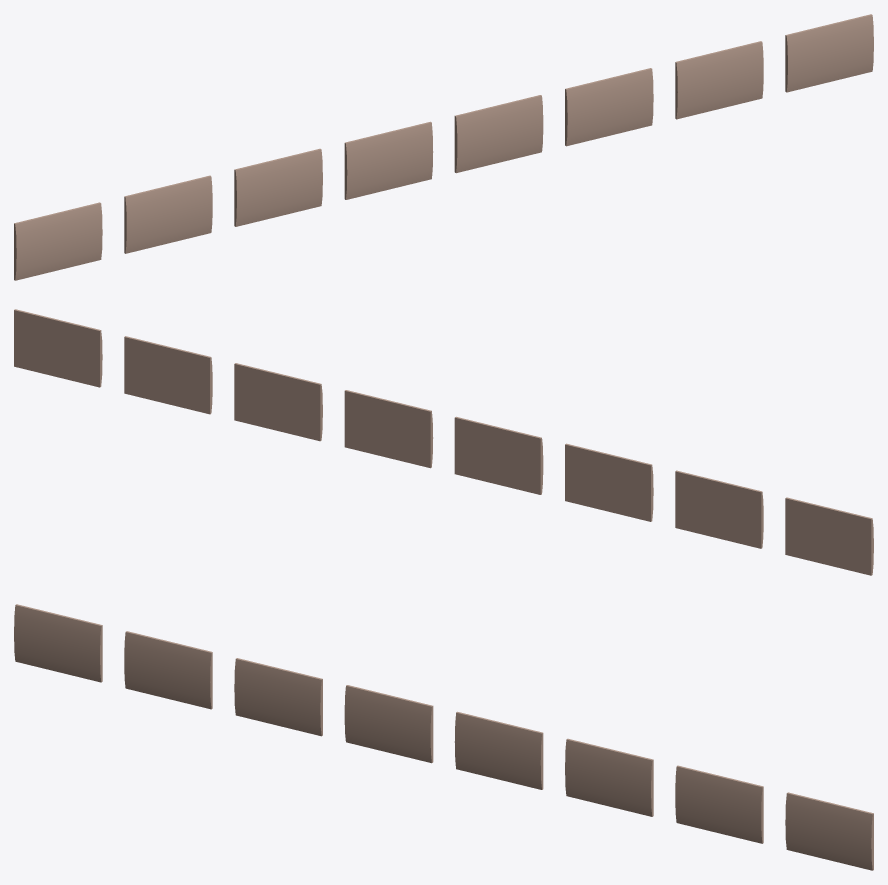
Rendered from SM_SignDoor_01.fbx.
3 renders of one model, top to bottom at view 1: azimuth 30°, elevation 25°; view 2: azimuth 150°, elevation 25°; view 3: azimuth 330°, elevation 25°, orthographic.
Parts seen in each view (by area): view 1: SM_SignDoor_01e, SM_SignDoor_01d, SM_SignDoor_01h, SM_SignDoor_01c, SM_SignDoor_01b, SM_SignDoor_01g, SM_SignDoor_01a, SM_SignDoor_01f; view 2: SM_SignDoor_01d, SM_SignDoor_01e, SM_SignDoor_01a, SM_SignDoor_01f, SM_SignDoor_01g, SM_SignDoor_01b, SM_SignDoor_01h, SM_SignDoor_01c; view 3: SM_SignDoor_01d, SM_SignDoor_01e, SM_SignDoor_01a, SM_SignDoor_01f, SM_SignDoor_01g, SM_SignDoor_01b, SM_SignDoor_01h, SM_SignDoor_01c.
Boxes of the visible parts, x1,y1,x2,y2 form: SM_SignDoor_01e: (454,95,543,173); SM_SignDoor_01d: (344,121,433,199); SM_SignDoor_01h: (785,14,873,92); SM_SignDoor_01c: (234,148,322,226); SM_SignDoor_01b: (124,175,212,253); SM_SignDoor_01g: (675,41,763,119); SM_SignDoor_01a: (14,202,102,280); SM_SignDoor_01f: (565,68,653,146); SM_SignDoor_01d: (454,416,543,494); SM_SignDoor_01e: (344,390,433,468); SM_SignDoor_01a: (785,497,873,575); SM_SignDoor_01f: (234,363,322,441); SM_SignDoor_01g: (124,336,212,414); SM_SignDoor_01b: (675,470,763,548); SM_SignDoor_01h: (14,309,102,387); SM_SignDoor_01c: (565,443,653,521); SM_SignDoor_01d: (344,685,433,763); SM_SignDoor_01e: (454,711,543,789); SM_SignDoor_01a: (14,604,102,682); SM_SignDoor_01f: (565,738,653,816); SM_SignDoor_01g: (675,765,763,843); SM_SignDoor_01b: (124,631,212,709); SM_SignDoor_01h: (785,792,873,870); SM_SignDoor_01c: (234,658,322,736).
Size of the model in its own units: 389 by 24.53 by 2.06.
